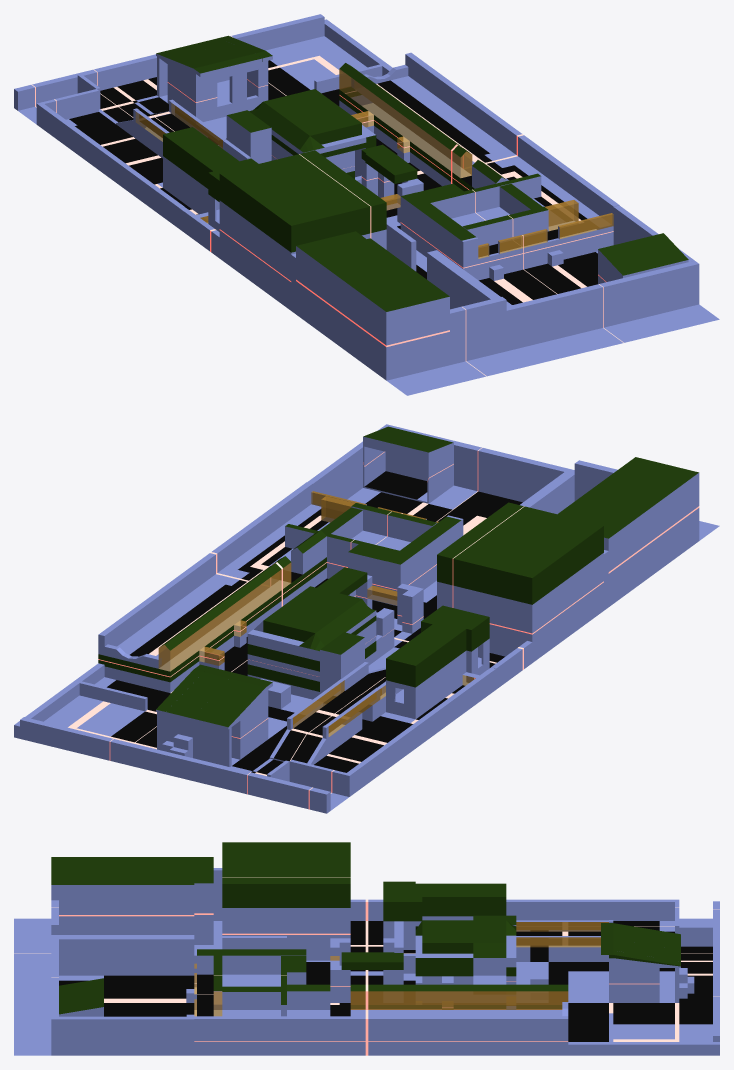
Rendered from fps_warface_map_destruction_pvp_shuret_neon.glb.
The picture shows the model from 3 angles, top to bottom: view 1: azimuth 30°, elevation 25°; view 2: azimuth 150°, elevation 25°; view 3: azimuth 270°, elevation 25°; orthographic projection. The views are drawn at different scales.
Visible parts, largest first — view 1: Plane_0; view 2: Plane_0; view 3: Plane_0.
Part boxes in pixels (bbox=[...]): Plane_0: bbox=[14, 14, 719, 395]; Plane_0: bbox=[14, 424, 719, 813]; Plane_0: bbox=[14, 842, 719, 1055].
Size of the model in its own units: 15.39 by 4 by 33.5.
